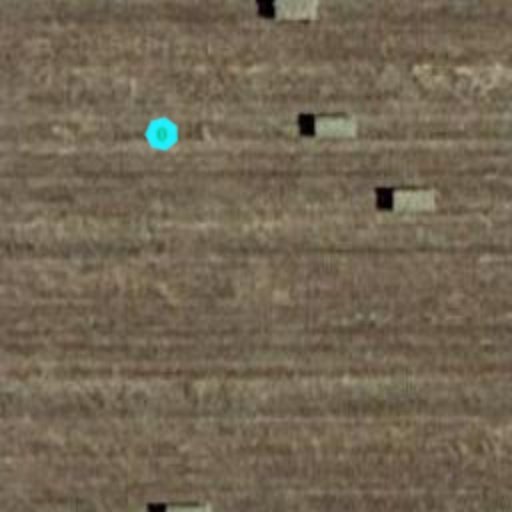heptagon: (144, 116, 180, 152)
